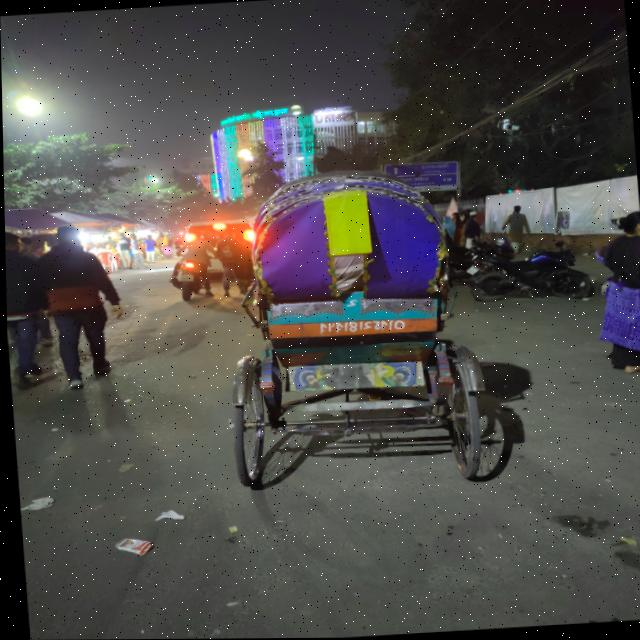rikshaw: (145, 169, 510, 566)
